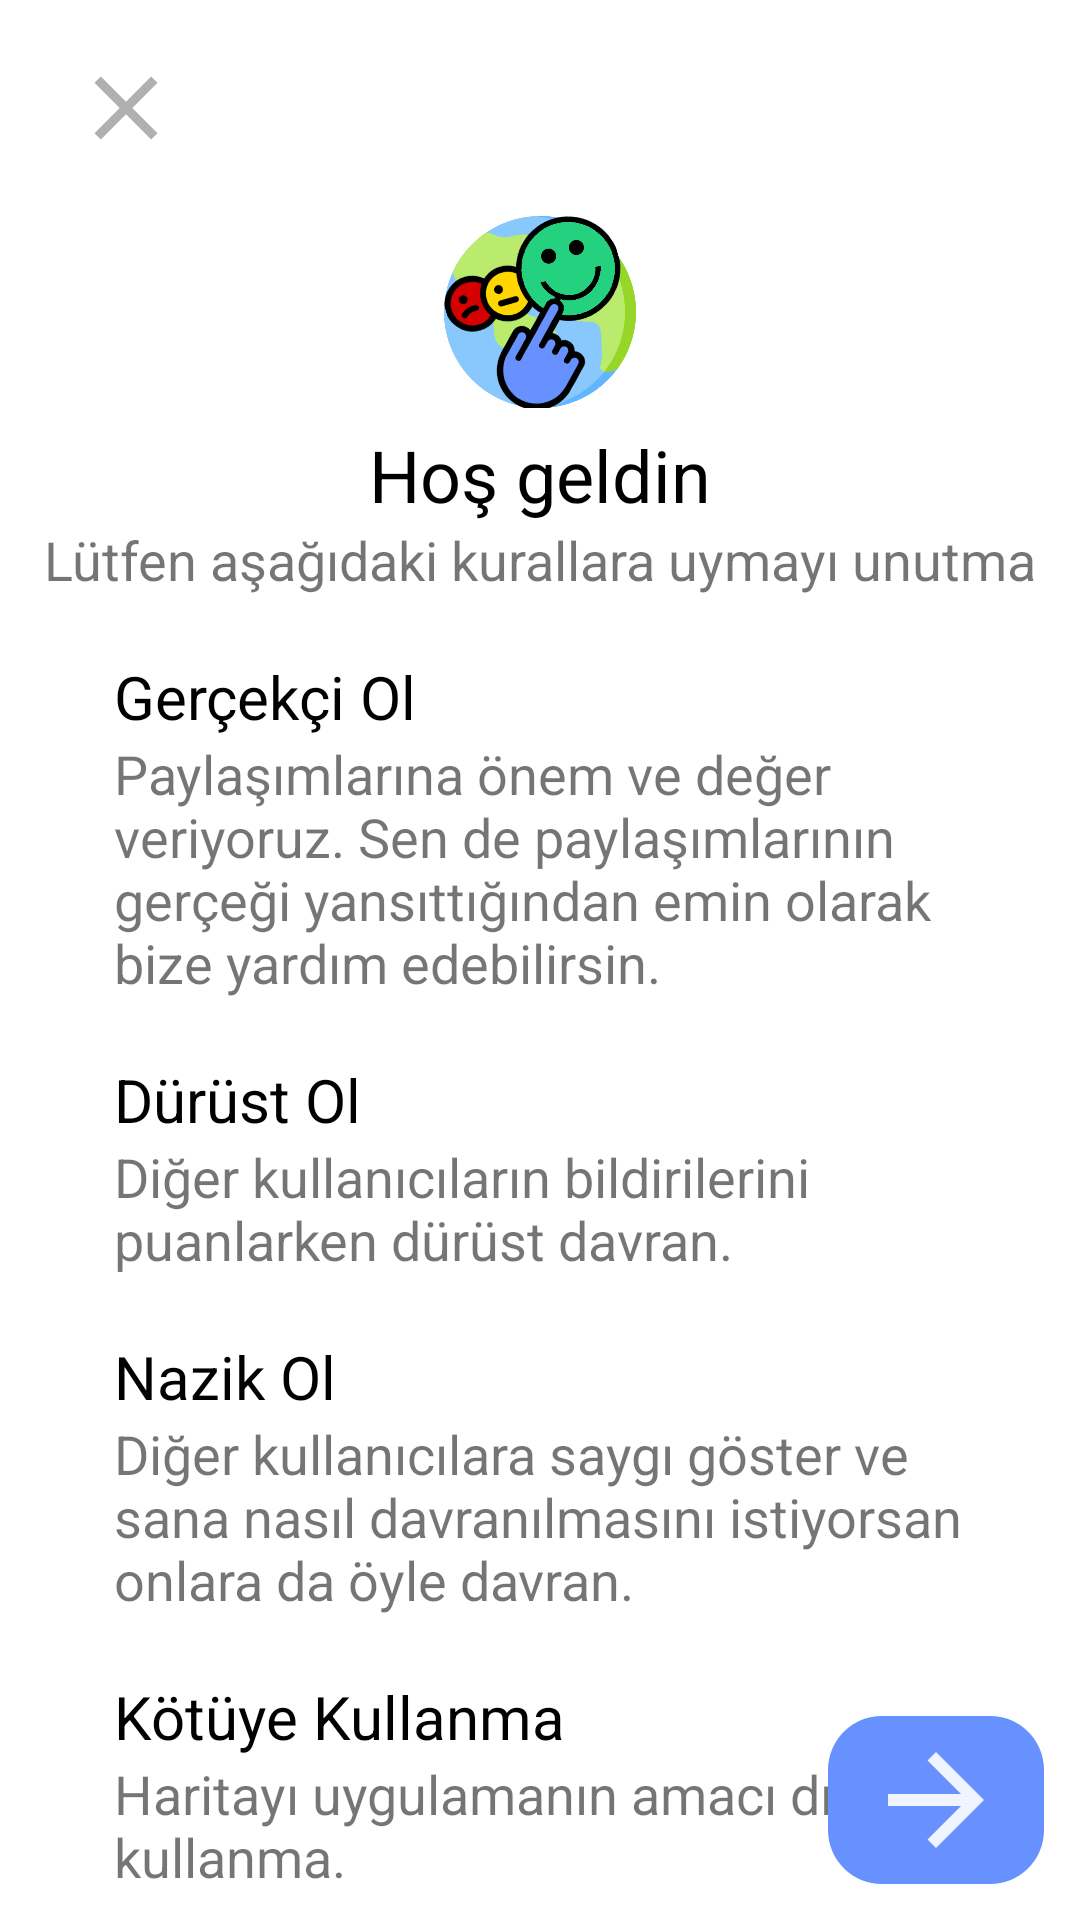

Named icons in this screenshot (1080 × 1920) and their bounding boxes, (x1, y1, x2, y2):
arrow forward: (828, 1716, 1044, 1884)
close: (95, 77, 157, 139)
